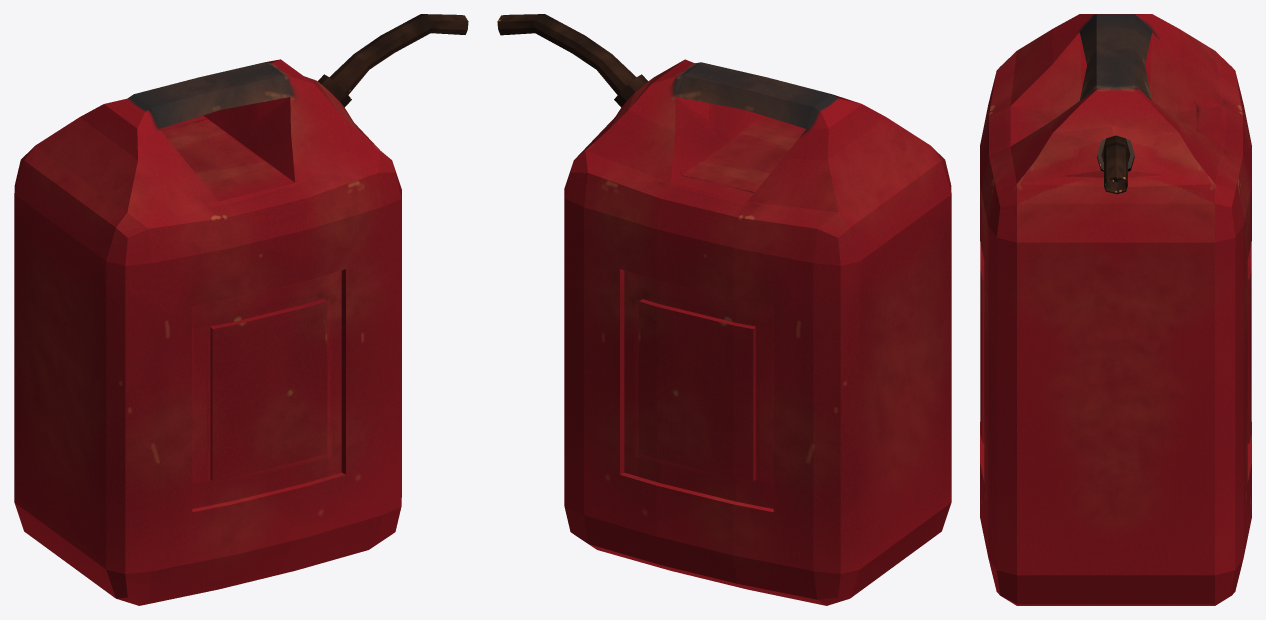
The model's file is Gas Canister.fbx.
The picture shows the model from 3 angles, left to right: view 1: azimuth 30°, elevation 25°; view 2: azimuth 150°, elevation 25°; view 3: azimuth 270°, elevation 25°; orthographic projection. The views are drawn at different scales.
Parts seen in each view (by area): view 1: Gas Canister; view 2: Gas Canister; view 3: Gas Canister.
Part boxes in pixels (x1,y1,x2,y2): Gas Canister: (14, 14, 468, 605); Gas Canister: (497, 14, 951, 605); Gas Canister: (980, 14, 1251, 605).
Size of the model in its own units: 0.3329 by 0.3751 by 0.1795.
